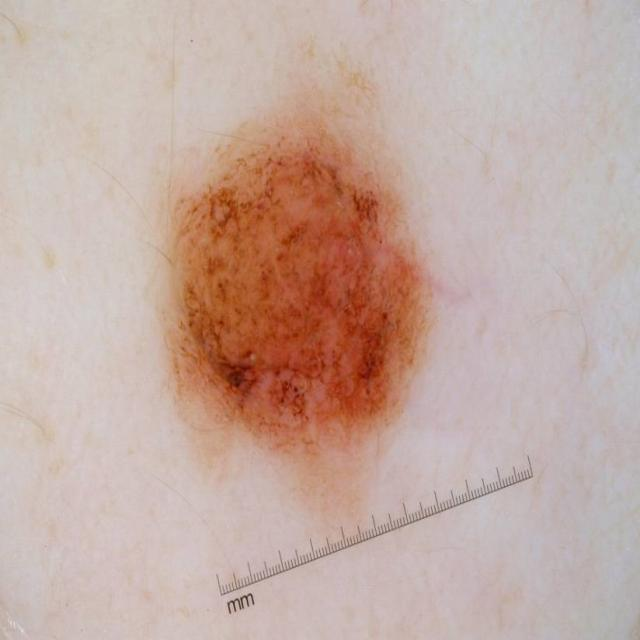Benign: (151, 81, 447, 487)
